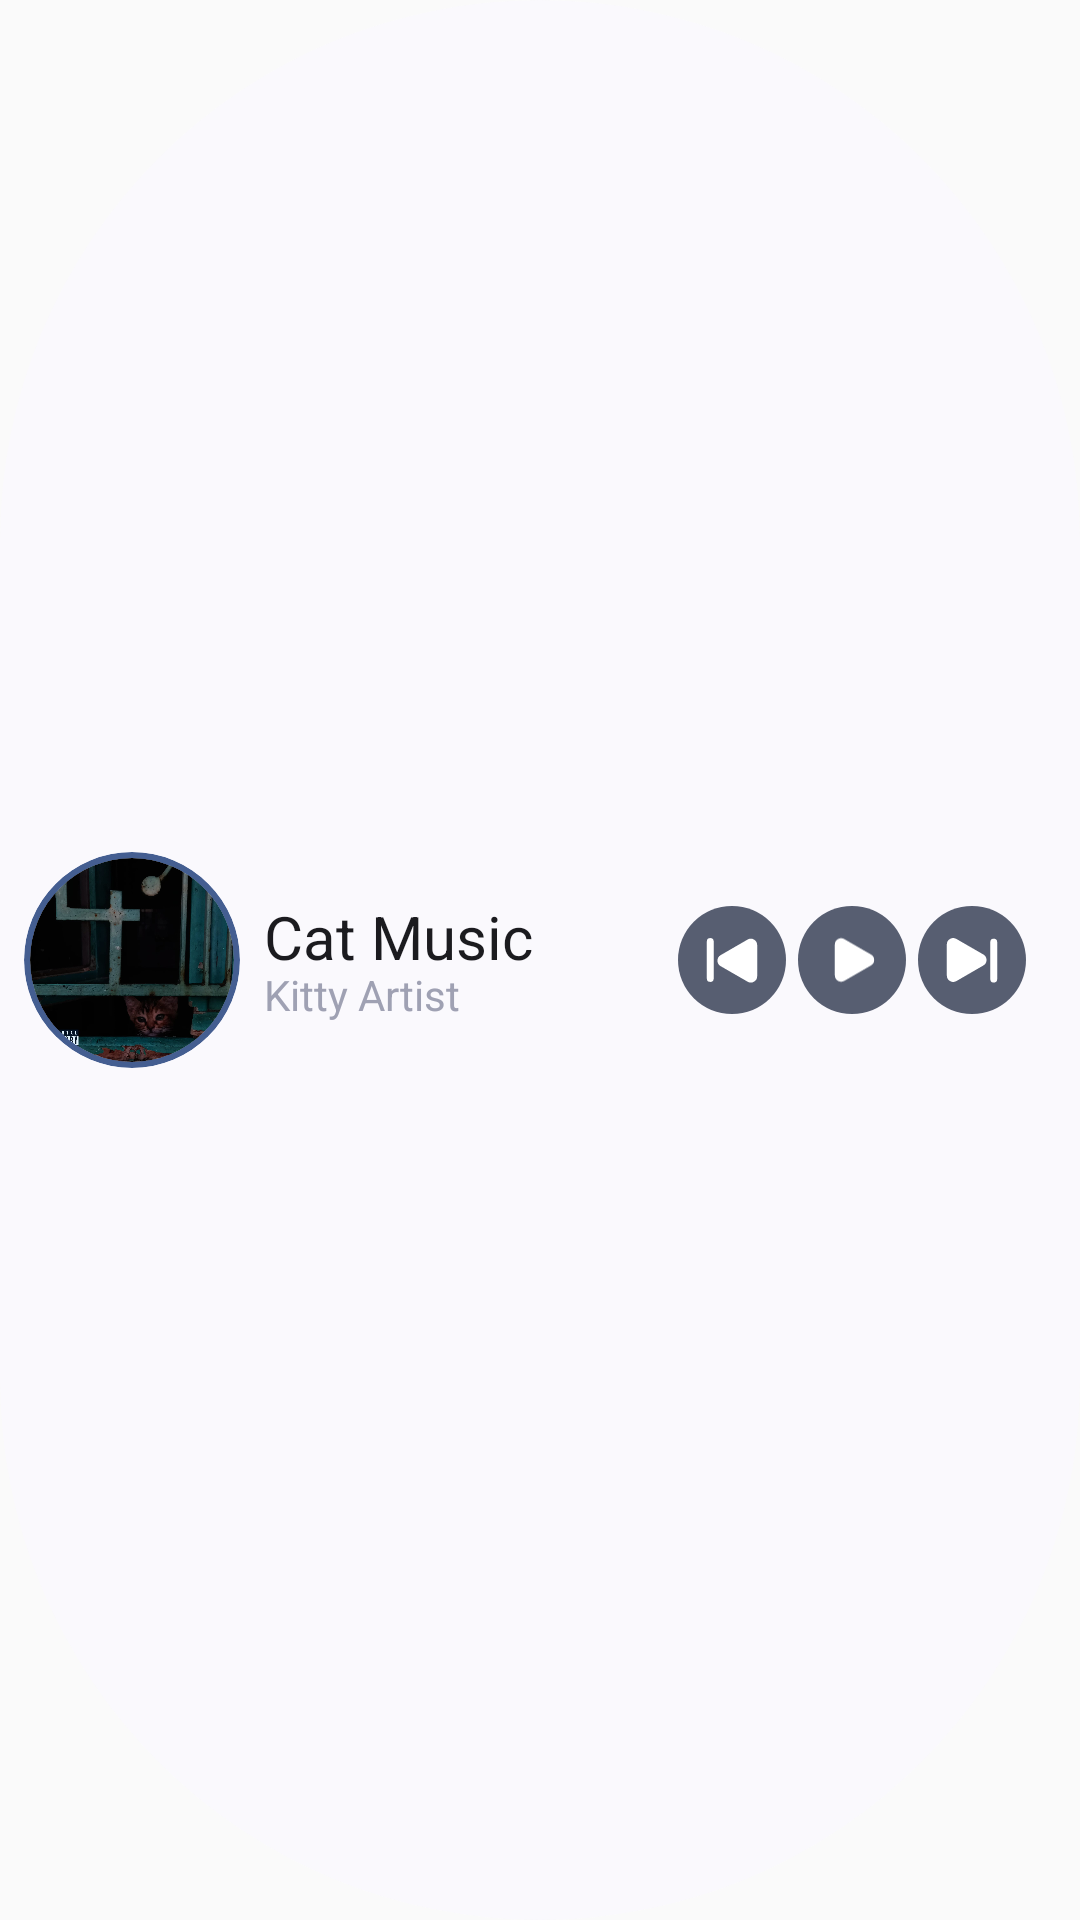

Screen size 1080px x 1920px. Icon name, then its box in pixels as {"left": x1, "top": y1, "right": x2, "bottom": y2}:
album art: {"left": 30, "top": 858, "right": 234, "bottom": 1062}
play: {"left": 798, "top": 906, "right": 906, "bottom": 1014}
skip ahead: {"left": 918, "top": 906, "right": 1026, "bottom": 1014}
skip back: {"left": 678, "top": 906, "right": 786, "bottom": 1014}
